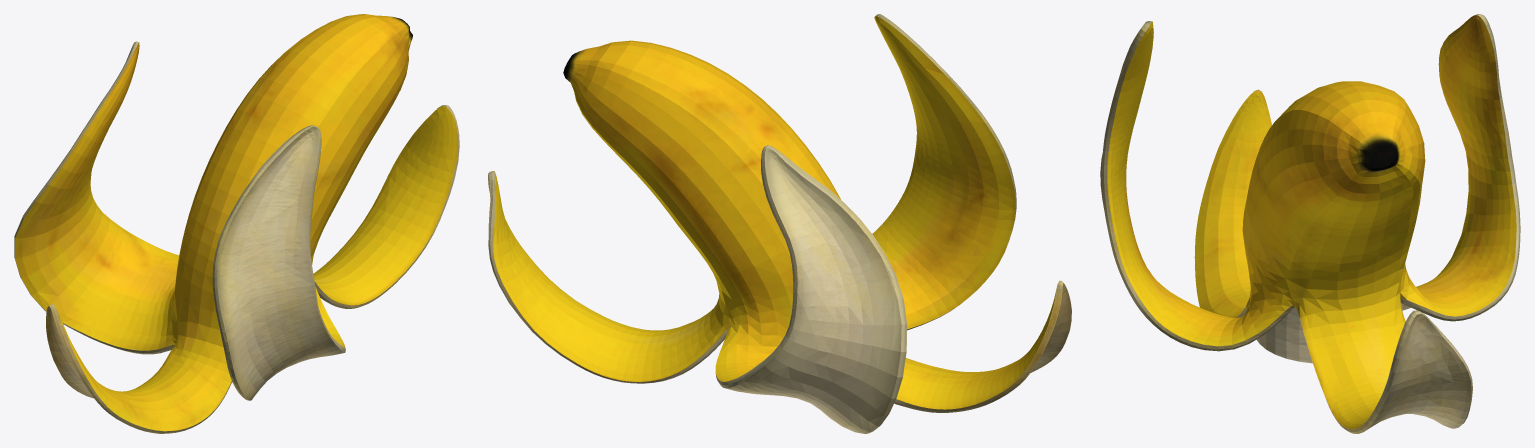
The model's file is banana.fbx.
3 renders of one model, left to right at view 1: azimuth 30°, elevation 25°; view 2: azimuth 150°, elevation 25°; view 3: azimuth 270°, elevation 25°, orthographic. The views are drawn at different scales.
Visible parts, largest first — view 1: node_id7; view 2: node_id7; view 3: node_id7.
Part boxes in pixels (left/top/right/bottom): node_id7: left=14, top=14, right=459, bottom=433; node_id7: left=488, top=14, right=1071, bottom=433; node_id7: left=1100, top=14, right=1520, bottom=433.
Bounding box in the file's own units: 0.512 × 0.3136 × 0.3327.
2 materials, 1 textured.
